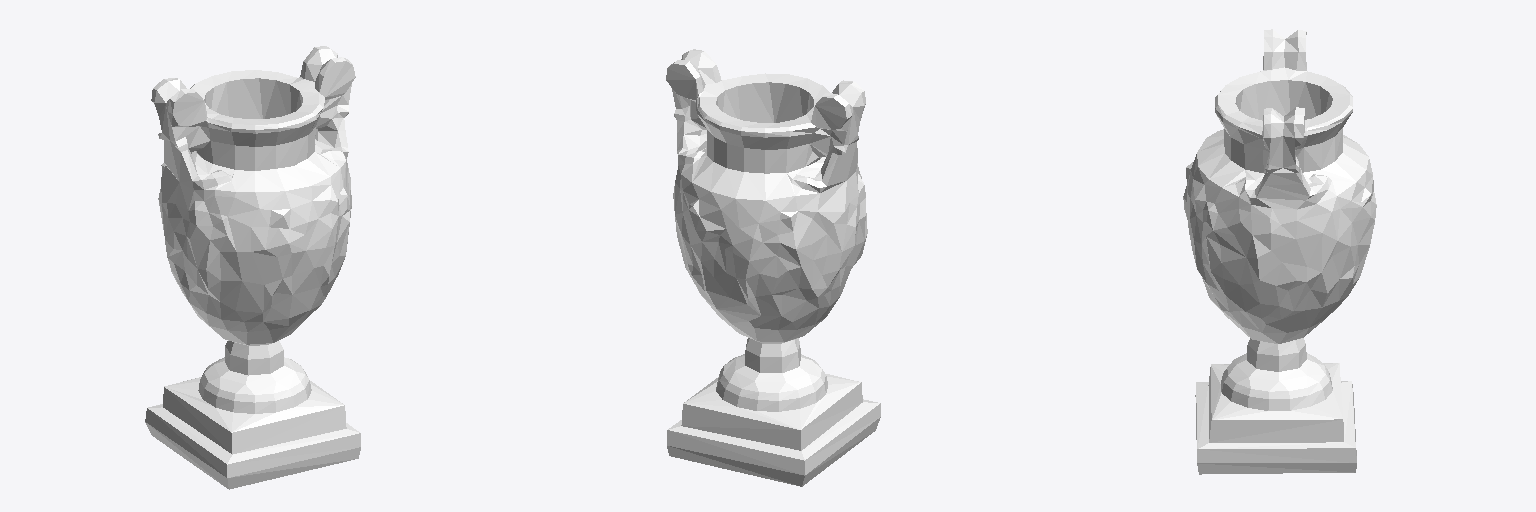
The model's file is vase_lod2.obj.
3 views of the same model, side by side, from view 1: azimuth 30°, elevation 25°; view 2: azimuth 150°, elevation 25°; view 3: azimuth 270°, elevation 25° (orthographic).
Parts seen in each view (by area): view 1: Vase_Lod2; view 2: Vase_Lod2; view 3: Vase_Lod2.
Part boxes in pixels (left/top/right/bottom): Vase_Lod2: left=145, top=46, right=360, bottom=489; Vase_Lod2: left=666, top=49, right=880, bottom=486; Vase_Lod2: left=1183, top=29, right=1376, bottom=474.
Size of the model in its own units: 4.25 by 8.22 by 3.83.